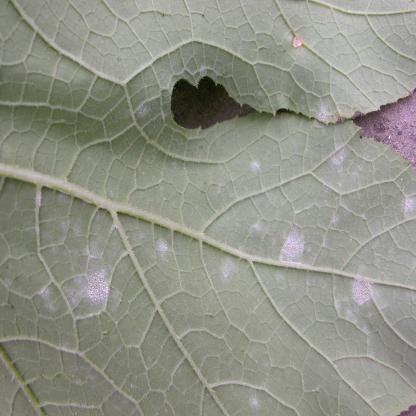squash powdery mildew leaf: (0, 0, 416, 416)
